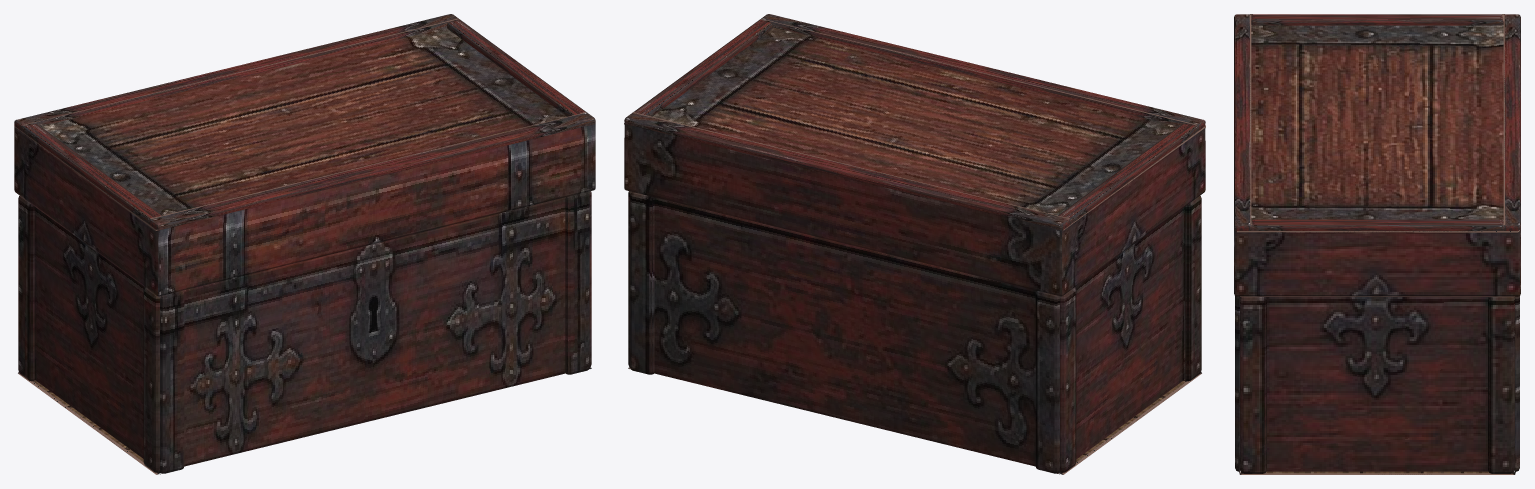
Rendered from chest_rustic_red.glb.
3 renders of one model, left to right at view 1: azimuth 30°, elevation 25°; view 2: azimuth 150°, elevation 25°; view 3: azimuth 270°, elevation 25°, orthographic.
Visible parts, largest first — view 1: lid, body; view 2: lid, body; view 3: lid, body.
Part boxes in pixels (x1,y1,x2,y2): lid: (14,14,595,296); body: (18,191,591,474); lid: (624,14,1205,296); body: (628,191,1201,474); lid: (1234,14,1520,296); body: (1235,296,1519,474).
Bounding box in the file's own units: 1.03 × 0.562 × 0.584.
Materials: 1 (1 with a texture image).
